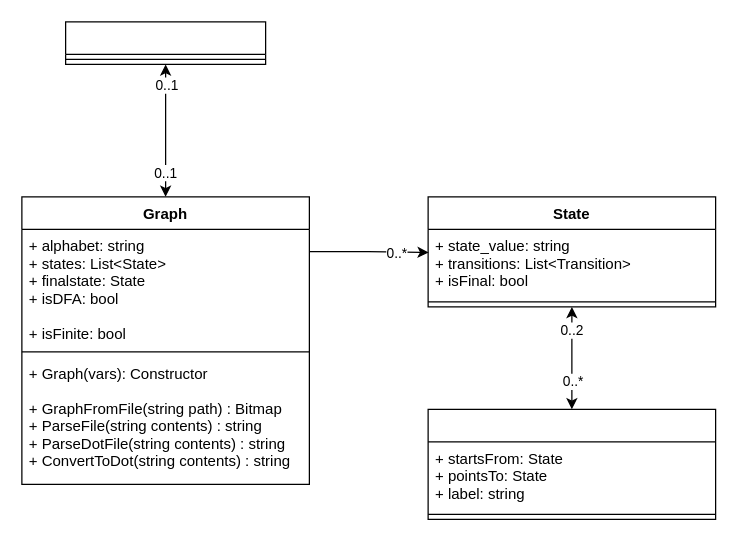
This 738x541 diagram has some shape labels left out. Here are the shapes that lost their labels. From the top down, the box of each, then its label:
(64, 21, 266, 64): MainForm
(427, 408, 716, 519): Transition
